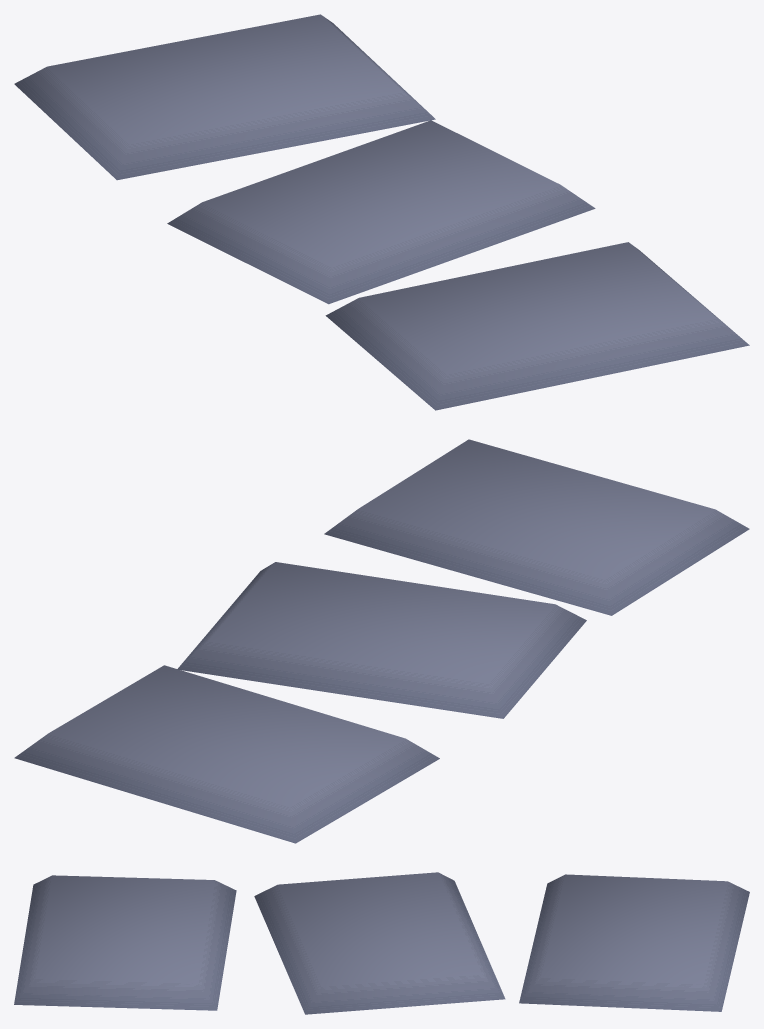
The model's file is path-stones-messy.glb.
The picture shows the model from 3 angles, top to bottom: view 1: azimuth 30°, elevation 25°; view 2: azimuth 150°, elevation 25°; view 3: azimuth 270°, elevation 25°; orthographic projection. The views are drawn at different scales.
Visible parts, largest first — view 1: path-stones-messy; view 2: path-stones-messy; view 3: path-stones-messy.
Part boxes in pixels (box(x1,y1,x2,y2)): path-stones-messy: box(14, 14, 749, 410); path-stones-messy: box(14, 439, 749, 843); path-stones-messy: box(14, 872, 749, 1014).
Size of the model in its own units: 0.1556 by 0.01 by 0.3614.
1 material, 1 textured.
